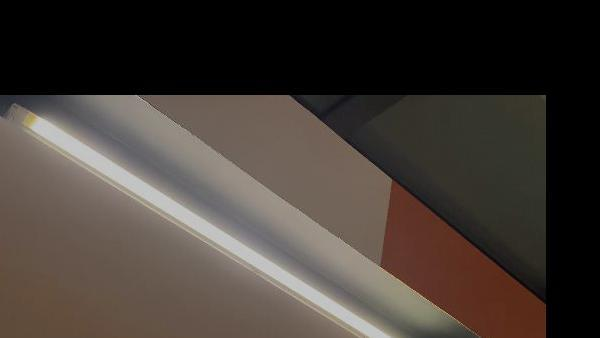light_on: (1, 95, 449, 338)
